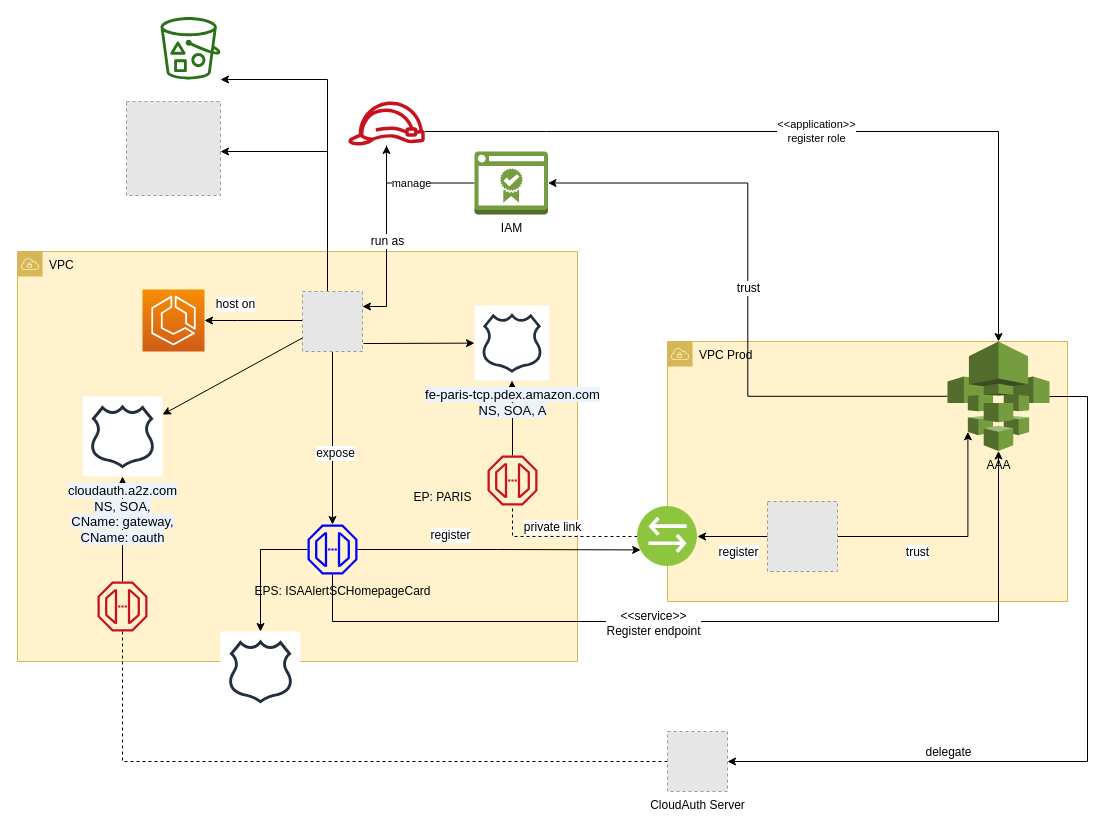
This 1113x830 diagram has some shape labels left out. Grey dashed boxes stand in for pictures. The box of each missing label's shape, as (x1, y1, x2, y2) in pixels:
Allegiance: (637, 506, 697, 566)
EP: CloudAuth: (97, 581, 147, 631)
isaaschcs-alertisa-g8rmqfxu79.pdx.prod.hex.a2z.com NS, SOA, A, CName: (220, 630, 300, 712)
